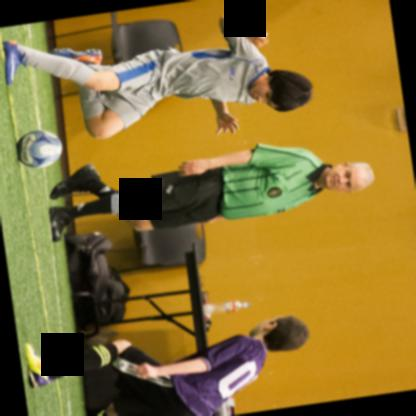suitcase: (65, 230, 127, 329)
